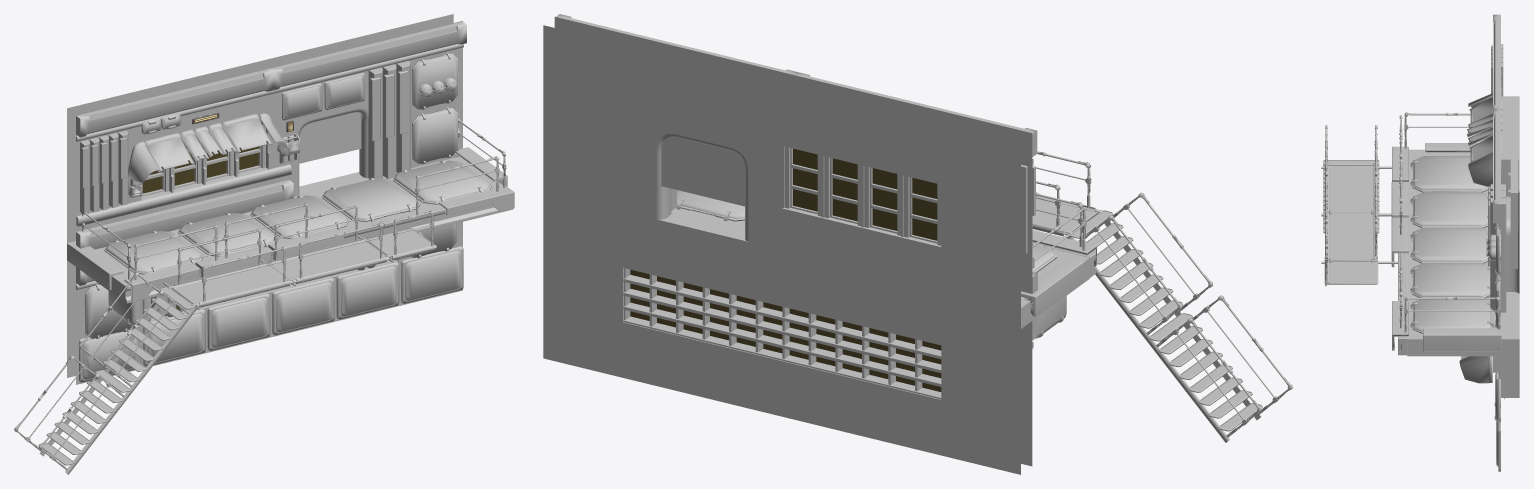
File: Wall_Assembled_07.fbx
The picture shows the model from 3 angles, left to right: view 1: azimuth 30°, elevation 25°; view 2: azimuth 150°, elevation 25°; view 3: azimuth 270°, elevation 25°; orthographic projection. The views are drawn at different scales.
Visible parts, largest first — view 1: Wall_04_Window.001, Wall_06_Door.002, Trim_02.022, Trim_02.020, Trim_02.021, Stairs.001, Stairs.002, Walk.003, Walk.002, Wall_02.051, Panel_02.014, Panel_02.012 (+50 smaller); view 2: Wall_04_Window.001, Wall_08_Window.004, Wall_08_Window.005, Wall_06_Door.002, Wall_02.051, Wall_02.046, Wall_02.052, Wall_02.047, Stairs.001, Stairs.002, Door_01.003, Walk.003 (+7 smaller); view 3: Panel_01.013, Walk.002, Panel_01.015, Panel_01.014, Walk.003, Panel_01.012, Panel_01.016, Wall_02.050, Panel_53.008, Wall_04_Window.001, Panel_52.009, Walk_Small.001 (+25 smaller).
Boxes of the visible parts, x1,y1,x2,y2 form: Wall_04_Window.001: (131, 61, 269, 215); Wall_06_Door.002: (260, 30, 397, 196); Trim_02.022: (76, 180, 293, 249); Trim_02.020: (76, 68, 273, 137); Trim_02.021: (270, 21, 466, 90); Stairs.001: (14, 355, 132, 474); Stairs.002: (78, 272, 196, 391); Walk.003: (172, 228, 292, 307); Walk.002: (268, 205, 389, 283); Wall_02.051: (67, 92, 140, 242); Panel_02.014: (336, 262, 399, 319); Panel_02.012: (207, 293, 270, 350); Wall_04_Window.001: (782, 75, 952, 288); Wall_08_Window.004: (782, 250, 941, 455); Wall_08_Window.005: (623, 211, 783, 416); Wall_06_Door.002: (623, 36, 793, 249); Wall_02.051: (941, 114, 1032, 308); Wall_02.046: (941, 289, 1032, 474); Wall_02.052: (543, 17, 634, 210); Wall_02.047: (543, 192, 622, 377); Stairs.001: (1146, 295, 1292, 442); Stairs.002: (1067, 192, 1212, 340); Door_01.003: (661, 137, 745, 206); Walk.003: (1032, 151, 1097, 236); Panel_01.013: (1410, 262, 1490, 297); Walk.002: (1324, 180, 1377, 261); Panel_01.015: (1410, 192, 1487, 228); Panel_01.014: (1410, 227, 1487, 263); Walk.003: (1324, 133, 1377, 213); Panel_01.012: (1410, 299, 1493, 333); Panel_01.016: (1410, 156, 1490, 192); Wall_02.050: (1407, 276, 1519, 356); Panel_53.008: (1423, 328, 1501, 351); Wall_04_Window.001: (1501, 96, 1519, 196); Panel_52.009: (1488, 198, 1506, 312); Walk_Small.001: (1324, 261, 1378, 284).
Bounding box in the file's own units: 16.02 × 8.09 × 5.3.
